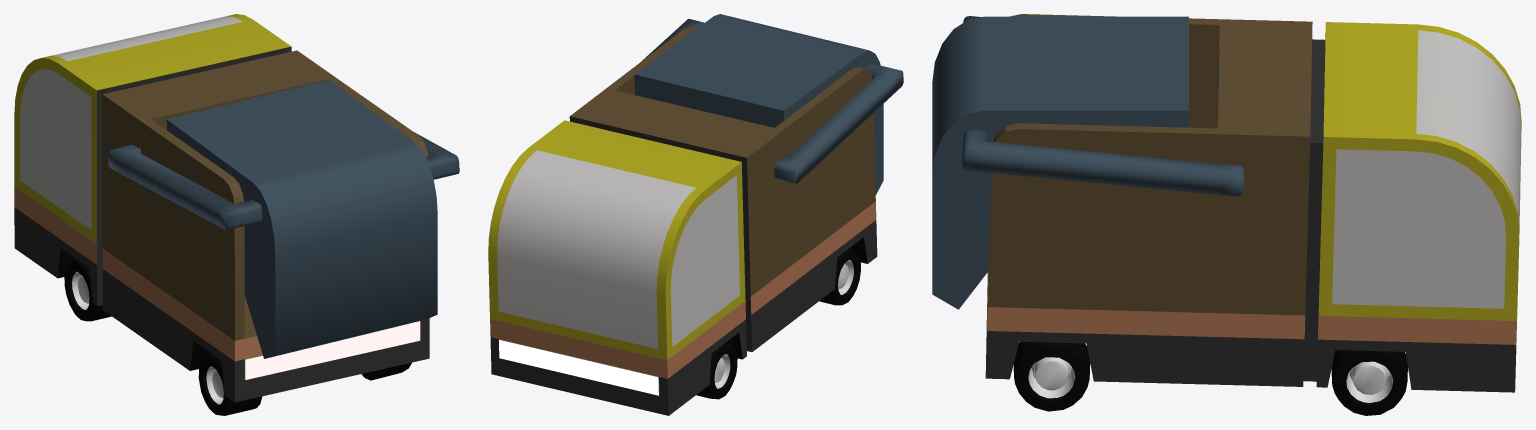
Rendered from SM_GarbageTruck_Yellow.glb.
3 views of the same model, side by side, from view 1: azimuth 30°, elevation 25°; view 2: azimuth 150°, elevation 25°; view 3: azimuth 270°, elevation 25° (orthographic). The views are drawn at different scales.
Visible parts, largest first — view 1: BodyYellow, Rear, Lights, Wheels.Rear, Wheels.Front; view 2: BodyYellow, Rear, Lights, Wheels.Front, Wheels.Rear; view 3: BodyYellow, Rear, Wheels.Rear, Wheels.Front.
Part boxes in pixels (x1=…): BodyYellow: x1=14, y1=14, x2=429, y2=402; Rear: x1=107, y1=80, x2=459, y2=358; Lights: x1=245, y1=321, x2=420, y2=379; Wheels.Rear: x1=198, y1=353, x2=411, y2=415; Wheels.Front: x1=64, y1=259, x2=111, y2=321; BodyYellow: x1=488, y1=27, x2=877, y2=415; Rear: x1=634, y1=14, x2=903, y2=195; Lights: x1=499, y1=340, x2=658, y2=395; Wheels.Front: x1=696, y1=342, x2=737, y2=399; Wheels.Rear: x1=819, y1=248, x2=860, y2=305; BodyYellow: x1=985, y1=14, x2=1521, y2=392; Rear: x1=932, y1=16, x2=1244, y2=309; Wheels.Rear: x1=1013, y1=341, x2=1090, y2=411; Wheels.Front: x1=1331, y1=350, x2=1407, y2=415.
Size of the model in its own units: 2.41 by 2.51 by 4.45.
